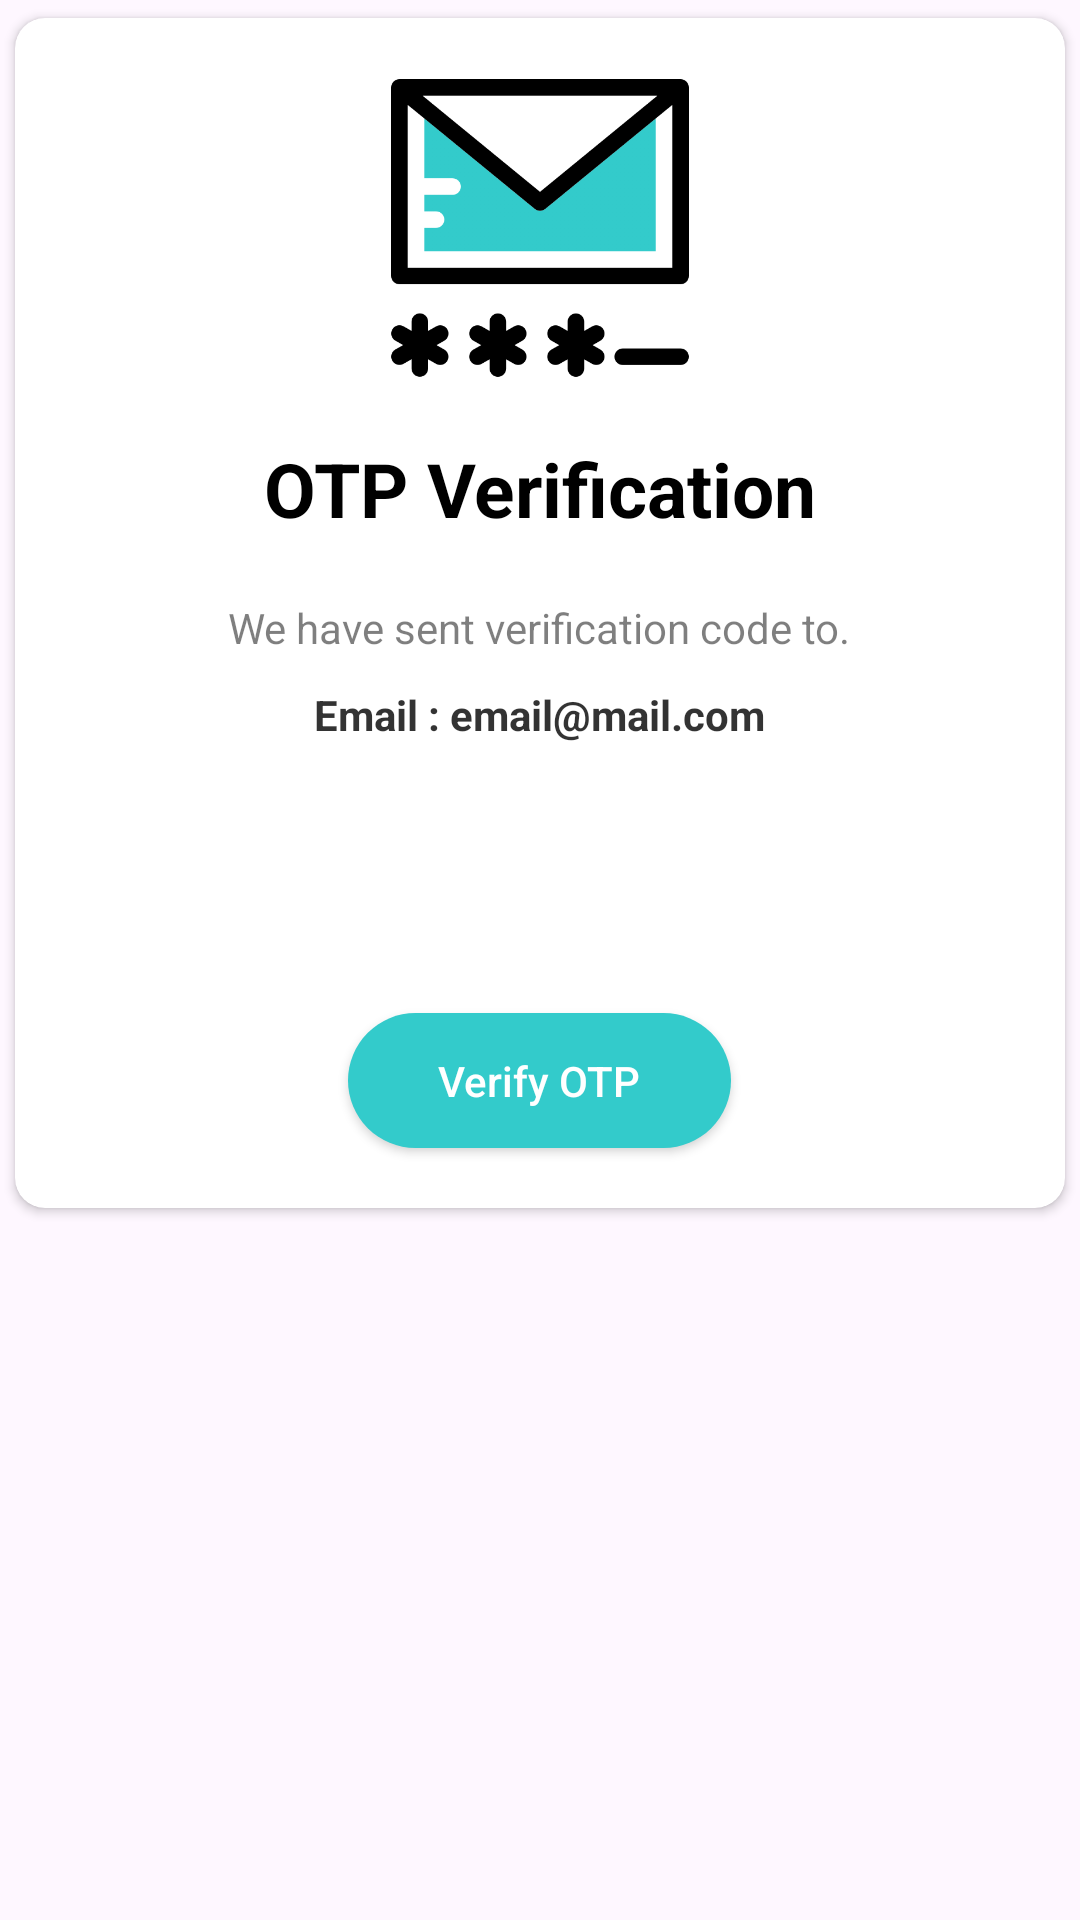

Icon click points for this 1080 x 1920 phone screenshot, format (x=x, y=y):
safe mail: (x=540, y=228)
